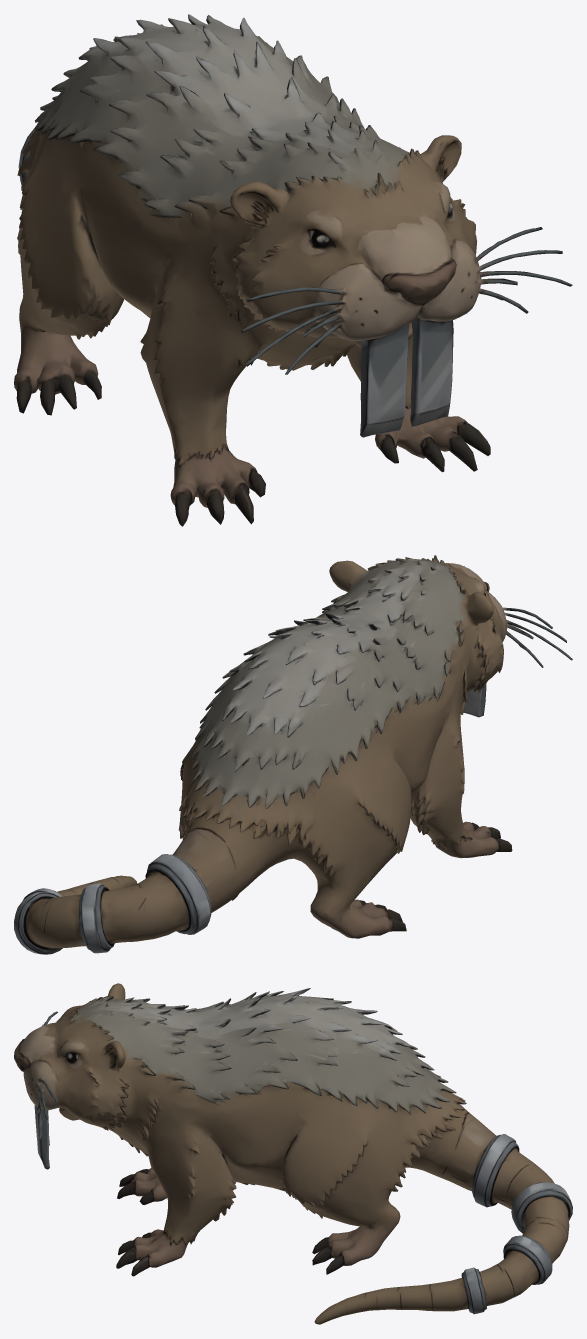
The model's file is 2020-Ratchisel.glb.
The picture shows the model from 3 angles, top to bottom: view 1: azimuth 30°, elevation 25°; view 2: azimuth 150°, elevation 25°; view 3: azimuth 270°, elevation 25°; orthographic projection. The views are drawn at different scales.
Visible parts, largest first — view 1: tripo_node_17b21935-45bf-4a61-a51c-620030ba9c57; view 2: tripo_node_17b21935-45bf-4a61-a51c-620030ba9c57; view 3: tripo_node_17b21935-45bf-4a61-a51c-620030ba9c57.
Boxes of the visible parts, x1,y1,x2,y2 form: tripo_node_17b21935-45bf-4a61-a51c-620030ba9c57: (14, 14, 572, 526); tripo_node_17b21935-45bf-4a61-a51c-620030ba9c57: (14, 555, 572, 954); tripo_node_17b21935-45bf-4a61-a51c-620030ba9c57: (14, 983, 572, 1324).
Bounding box in the file's own units: 0.562 × 0.5059 × 1.
Materials: 1 (1 with a texture image).
